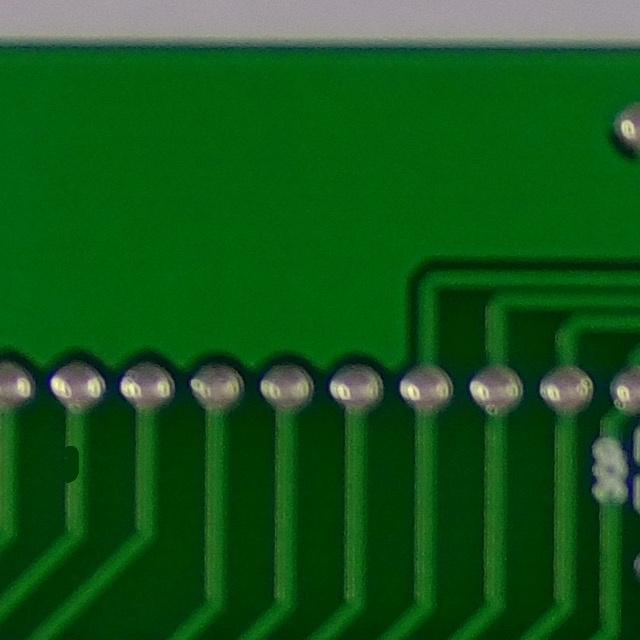mouse_bite: (45, 435, 96, 492)
